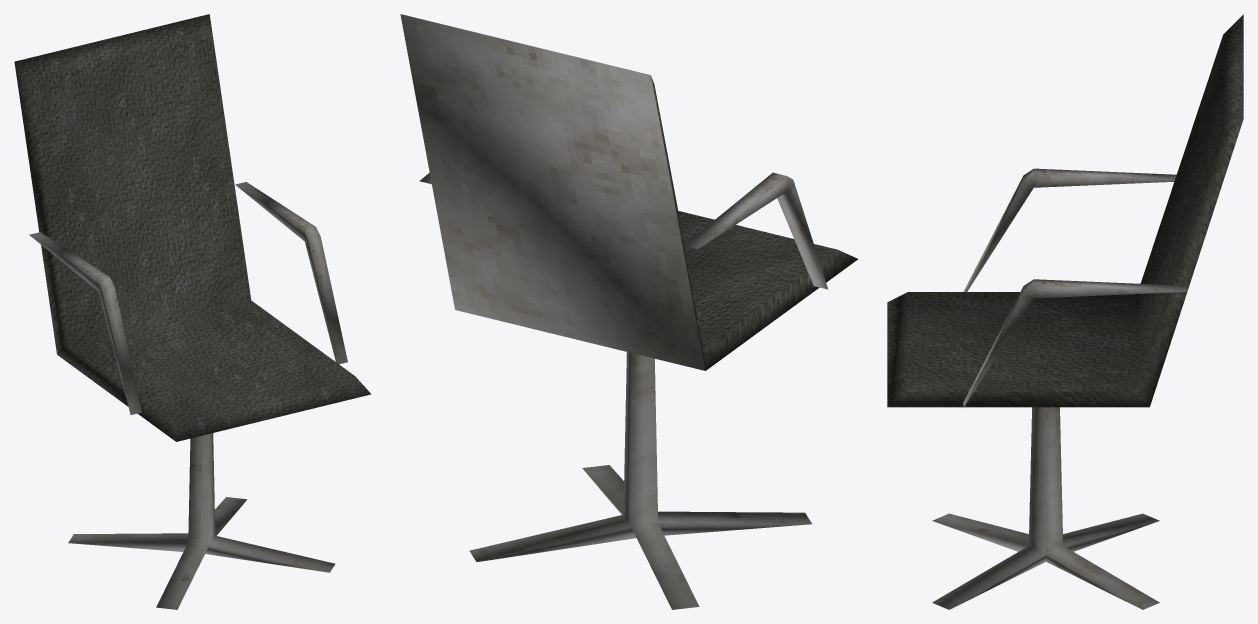
File: Chair.fbx
3 views of the same model, side by side, from view 1: azimuth 30°, elevation 25°; view 2: azimuth 150°, elevation 25°; view 3: azimuth 270°, elevation 25° (orthographic). The views are drawn at different scales.
Visible parts, largest first — view 1: Body, Arms; view 2: Body, Arms; view 3: Body, Arms.
Boxes of the visible parts, bbox=[...] form: Body: bbox=[14, 14, 370, 609]; Arms: bbox=[29, 182, 347, 414]; Body: bbox=[400, 14, 857, 609]; Arms: bbox=[419, 172, 828, 289]; Body: bbox=[887, 14, 1243, 609]; Arms: bbox=[963, 168, 1187, 407].
Bounding box in the file's own units: 141 × 279 × 182.
